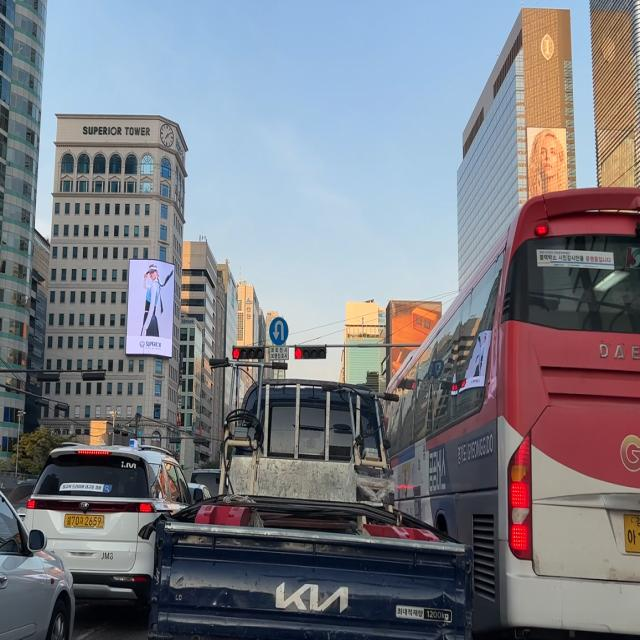Red Light: (232, 346, 240, 360), (294, 346, 302, 359)
